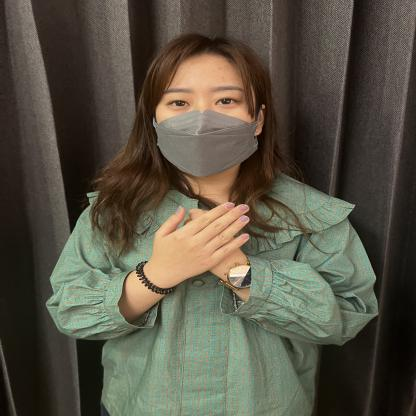Grieve: (65, 168, 358, 329)
